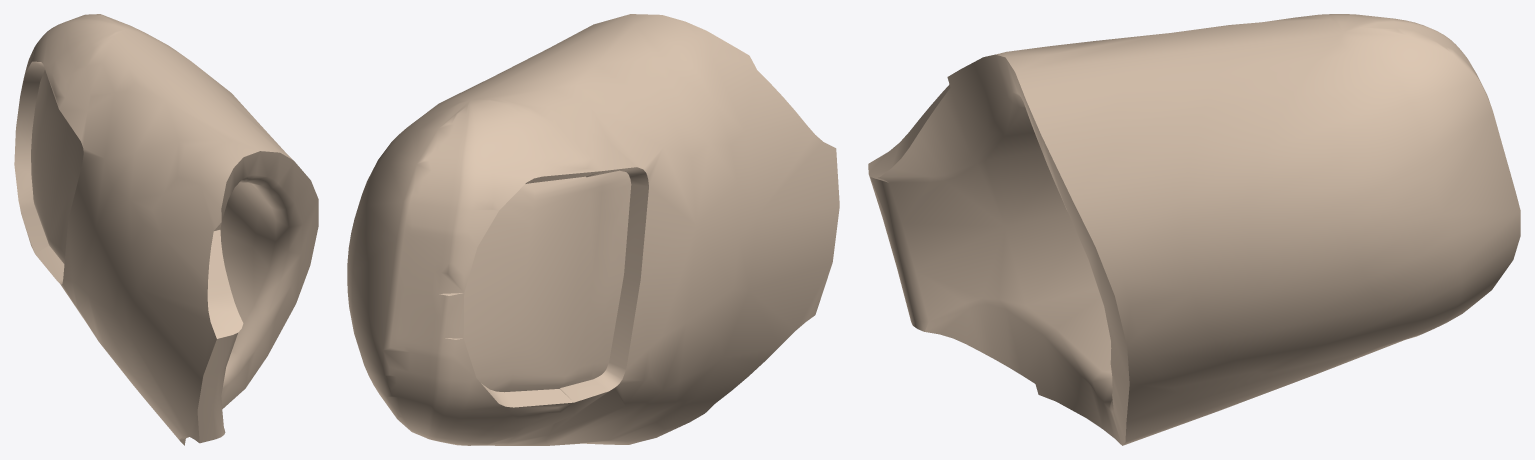
The model's file is r_hand_D_L_1.obj.
3 views of the same model, side by side, from view 1: azimuth 30°, elevation 25°; view 2: azimuth 150°, elevation 25°; view 3: azimuth 270°, elevation 25° (orthographic). The views are drawn at different scales.
Size of the model in its own units: 14.61 by 21.9 by 30.84.
